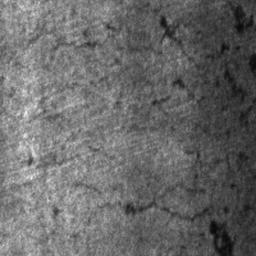Crazing: (103, 15, 256, 256), (23, 19, 103, 52), (52, 181, 102, 221), (25, 152, 80, 169), (229, 2, 253, 36), (88, 146, 124, 165), (97, 202, 114, 210)
